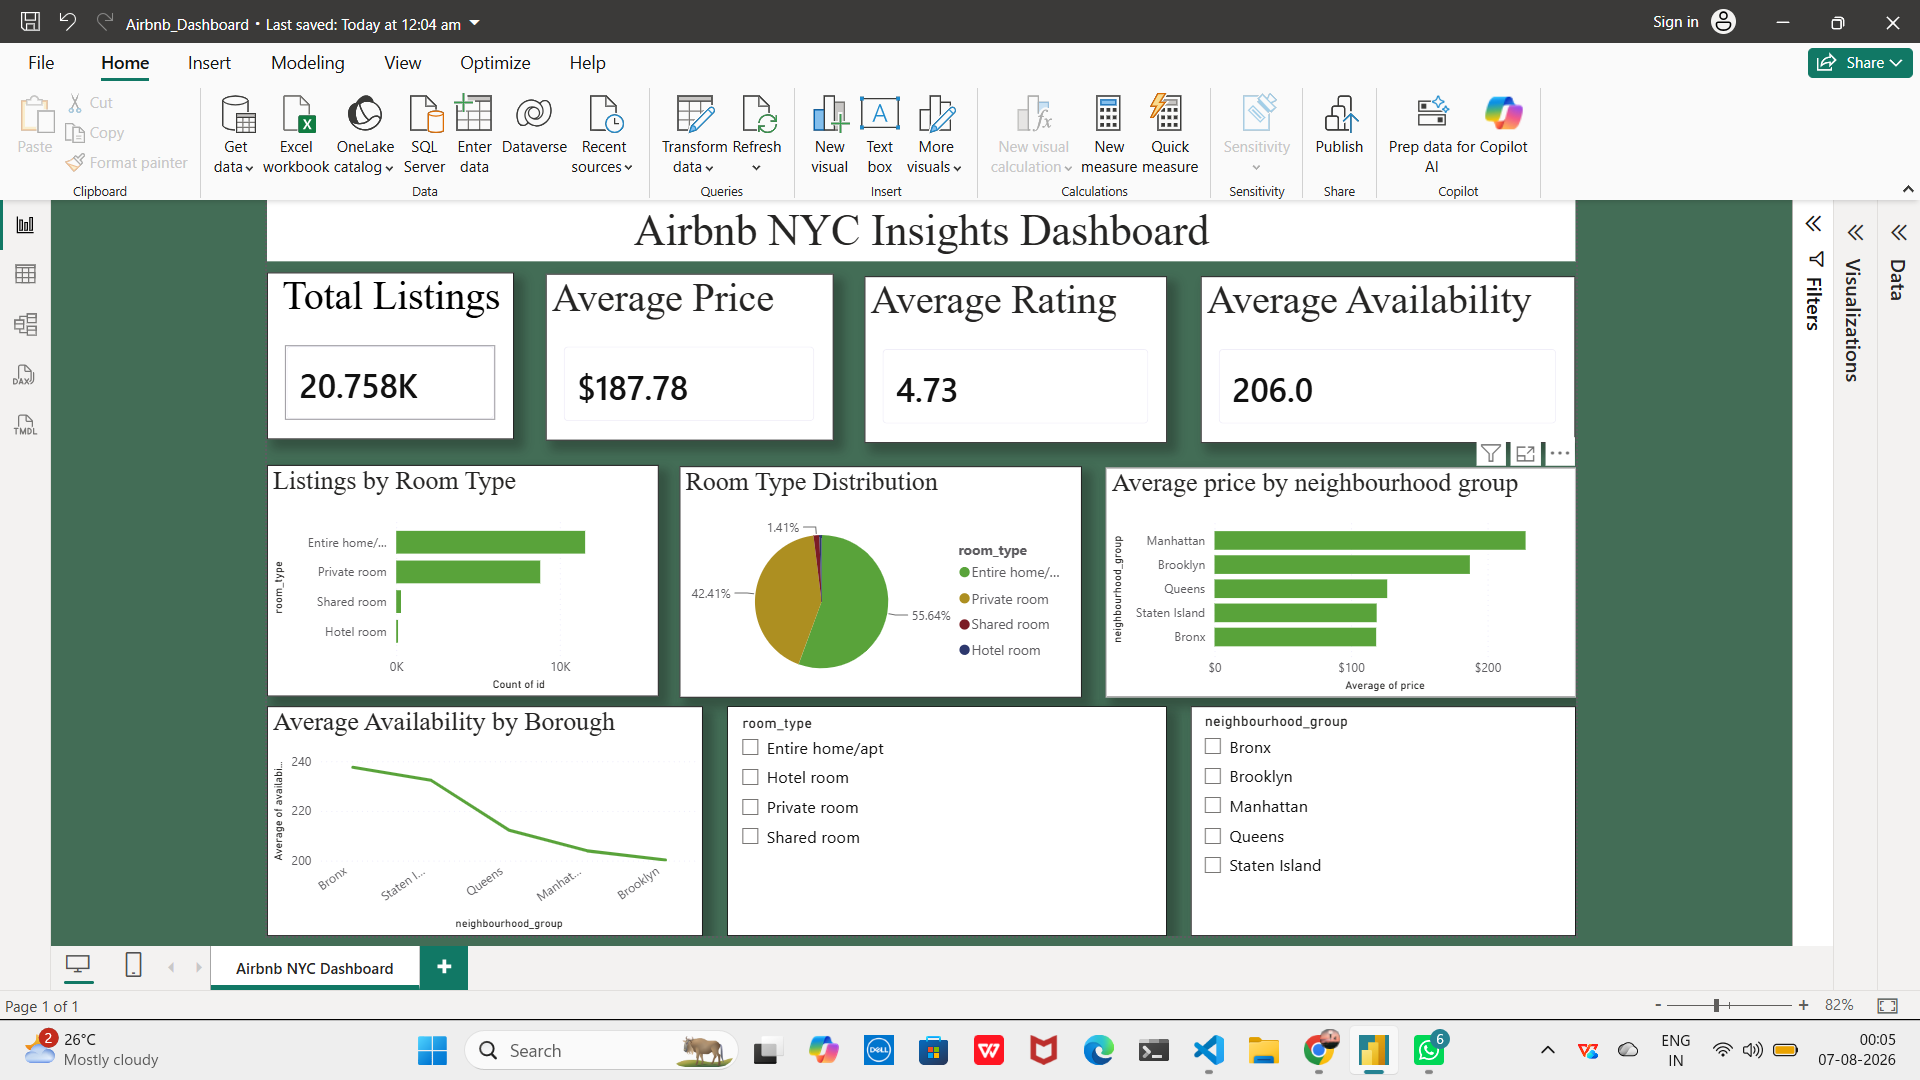

What the dashboard file says about the page in this screenshot:
{"tool":"powerbi","page":{"name":"Page 1","canvas":[1280,720],"ordinal":0},"visuals":[{"type":"cardVisual","title":"Total Listings","fields":{"Data":["CountNonNull(AB_NYC_cleaned.id)"]},"box":[0,49.4,244.3,138.6],"z":0},{"type":"cardVisual","title":"Average Price","fields":{"Data":["Avg(AB_NYC_cleaned.price)"]},"box":[271.7,50.8,286.8,138.6],"z":1000},{"type":"cardVisual","title":"Average Rating","fields":{"Data":["Avg(AB_NYC_cleaned.rating)"]},"box":[581.8,52.1,311.5,138.6],"z":2000},{"type":"cardVisual","title":"Average Availability","fields":{"Data":["Avg(AB_NYC_cleaned.availability_365)"]},"box":[918,52.1,362.3,138.6],"z":3000},{"type":"clusteredBarChart","title":"Listings by Room Type","fields":{"Category":["AB_NYC_cleaned.room_type"],"Y":["CountNonNull(AB_NYC_cleaned.id)"]},"box":[0,203.1,381.5,247],"z":4000},{"type":"pieChart","title":"Room Type Distribution","fields":{"Category":["AB_NYC_cleaned.room_type"],"Y":["CountNonNull(AB_NYC_cleaned.id)"]},"box":[392.5,203.1,413,247],"z":5000},{"type":"clusteredBarChart","title":"Average price by Neighbourhood Group","fields":{"Y":["Avg(AB_NYC_cleaned.price)"],"Category":["AB_NYC_cleaned.neighbourhood_group"]},"box":[816.5,203.1,463.8,247],"z":6000},{"type":"lineChart","title":"Average Availability by Borough","fields":{"Category":["AB_NYC_cleaned.neighbourhood_group"],"Y":["Avg(AB_NYC_cleaned.availability_365)"]},"box":[0,463.8,476.2,247],"z":7000},{"type":"slicer","fields":{"Values":["AB_NYC_cleaned.room_type"]},"box":[492.6,463.8,378.7,247],"z":8000},{"type":"slicer","fields":{"Values":["AB_NYC_cleaned.neighbourhood_group"]},"box":[883.7,463.8,396.6,247],"z":9000},{"type":"textbox","box":[0,0,1280.3,49.4],"z":9001}]}

Visuals, with their boxes on the page's 1280x720 design canvas (x1, y1, x2, y2). These are canvas units, not pixel positions in the 1920x1080 screenshot, which may show the page scaled, cropped or inside an application window:
"Total Listings" cardVisual: select_region(0, 49, 244, 188)
"Average Price" cardVisual: select_region(272, 51, 558, 189)
"Average Rating" cardVisual: select_region(582, 52, 893, 191)
"Average Availability" cardVisual: select_region(918, 52, 1280, 191)
"Listings by Room Type" clusteredBarChart: select_region(0, 203, 382, 450)
"Room Type Distribution" pieChart: select_region(392, 203, 806, 450)
"Average price by Neighbourhood Group" clusteredBarChart: select_region(816, 203, 1280, 450)
"Average Availability by Borough" lineChart: select_region(0, 464, 476, 711)
slicer - AB_NYC_cleaned.room_type: select_region(493, 464, 871, 711)
slicer - AB_NYC_cleaned.neighbourhood_group: select_region(884, 464, 1280, 711)
textbox: select_region(0, 0, 1280, 49)
